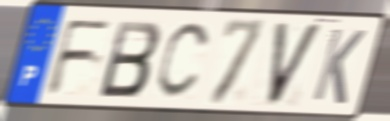7: (210, 16, 270, 109)
B: (97, 18, 165, 100)
C: (153, 20, 214, 103)
F: (43, 17, 116, 98)
K: (309, 25, 368, 108)
V: (266, 20, 326, 109)
